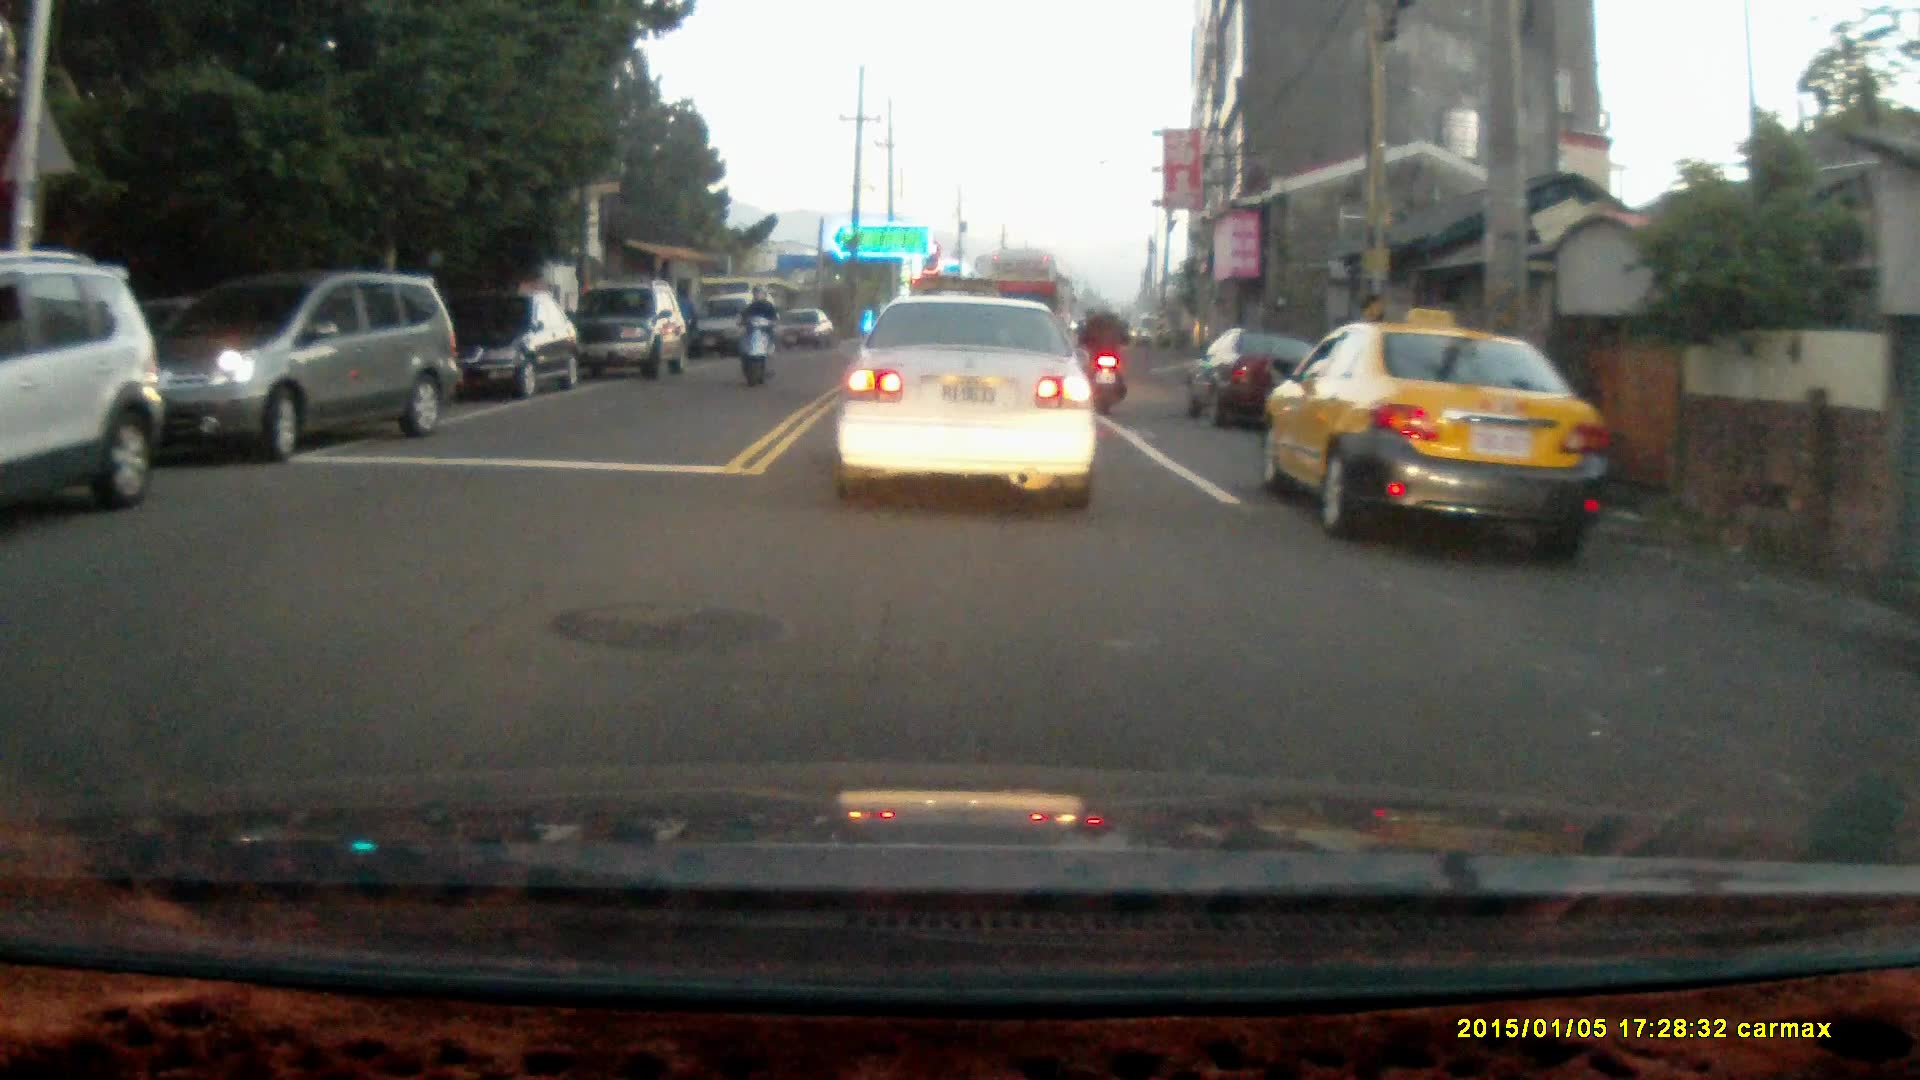rider: (1077, 292, 1135, 418), (734, 282, 776, 389)
vehicle: (1265, 322, 1609, 558), (131, 276, 460, 472), (836, 283, 1112, 502), (1, 268, 159, 533), (443, 290, 581, 402), (1198, 322, 1319, 428), (573, 286, 690, 381), (693, 291, 774, 356), (780, 306, 834, 351)
